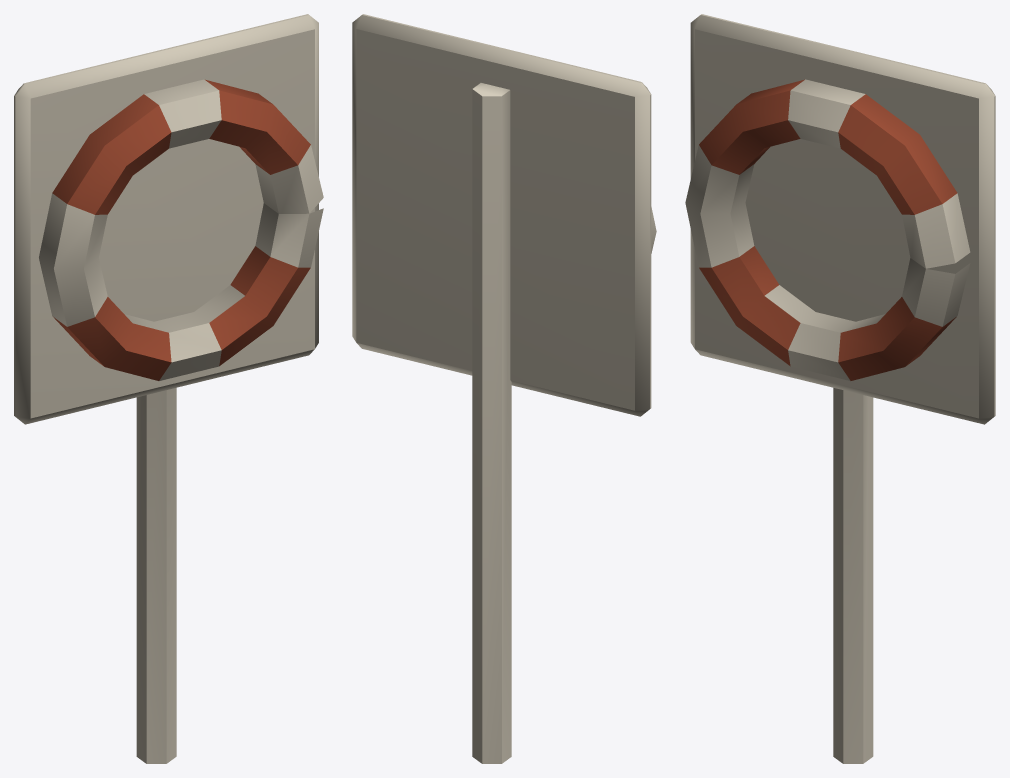
The model's file is life_ring_stand.glb.
The picture shows the model from 3 angles, left to right: view 1: azimuth 30°, elevation 25°; view 2: azimuth 150°, elevation 25°; view 3: azimuth 330°, elevation 25°; orthographic projection.
Parts seen in each view (by area): view 1: life_ring_stand_mesh; view 2: life_ring_stand_mesh; view 3: life_ring_stand_mesh.
Boxes of the visible parts, left/top/right/bottom form: life_ring_stand_mesh: left=14, top=14, right=323, bottom=763; life_ring_stand_mesh: left=352, top=14, right=656, bottom=763; life_ring_stand_mesh: left=685, top=14, right=995, bottom=763.
Size of the model in its own units: 0.7 by 1.58 by 0.2.
